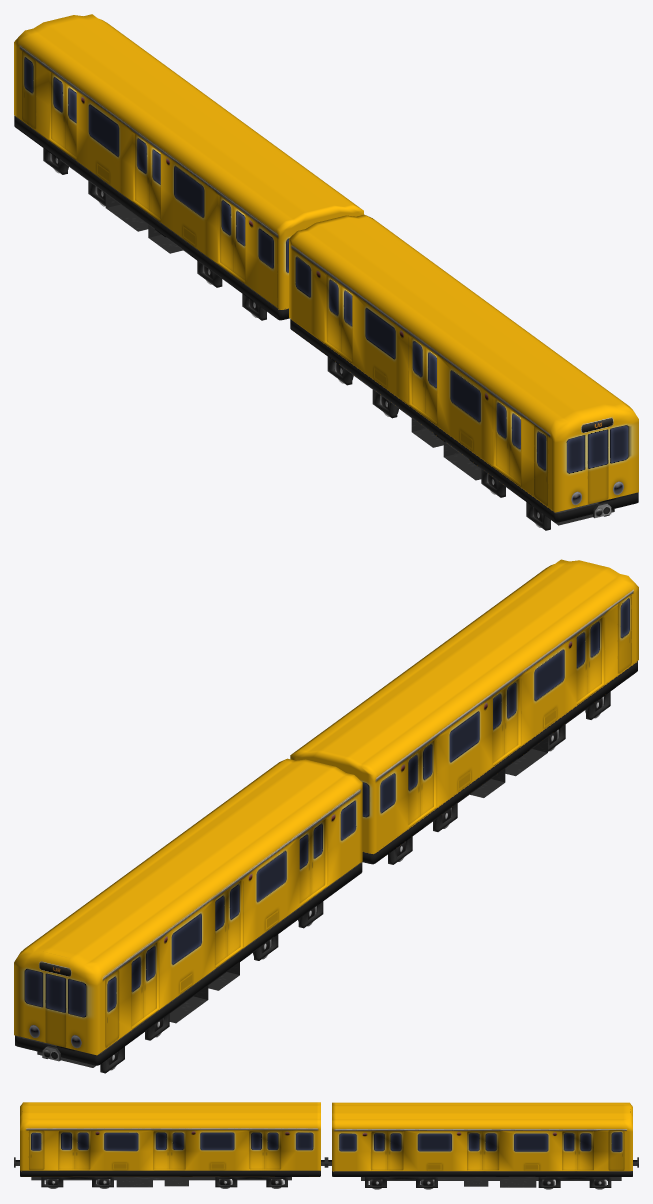
The model's file is ubahn2.glb.
3 renders of one model, top to bottom at view 1: azimuth 30°, elevation 25°; view 2: azimuth 150°, elevation 25°; view 3: azimuth 270°, elevation 25°, orthographic. The views are drawn at different scales.
Parts seen in each view (by area): view 1: Object_2.001; view 2: Object_2.001; view 3: Object_2.001.
Part boxes in pixels (x1,y1,x2,y2): Object_2.001: [14, 14, 638, 530]; Object_2.001: [14, 559, 638, 1073]; Object_2.001: [14, 1102, 638, 1189].
Size of the model in its own units: 18.62 by 26.68 by 210.
Materials: 1 (1 with a texture image).
